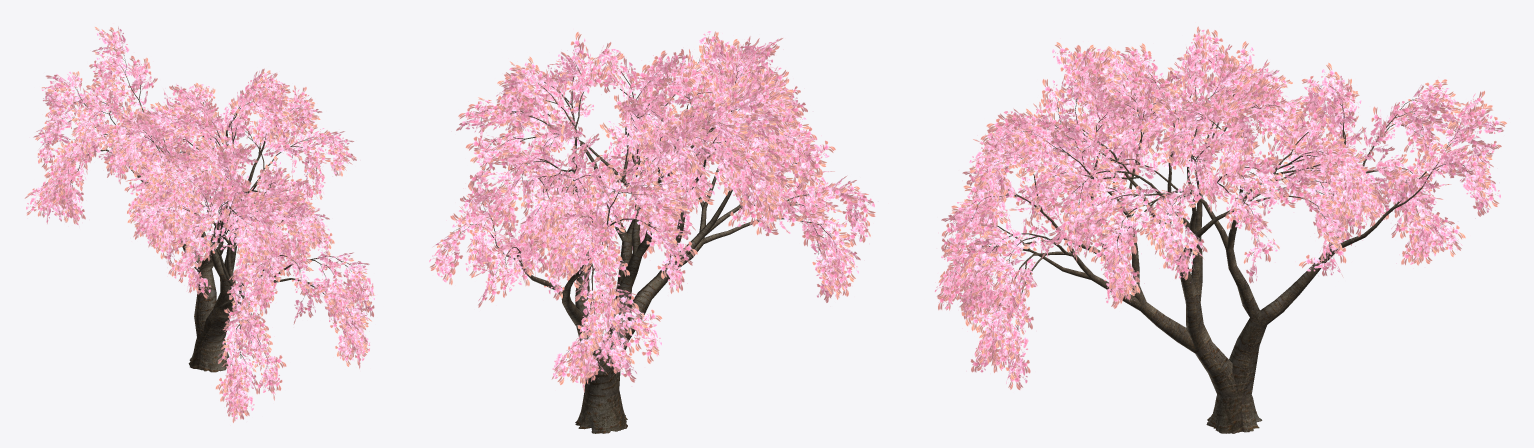
File: cerisier.glb
3 views of the same model, side by side, from view 1: azimuth 30°, elevation 25°; view 2: azimuth 150°, elevation 25°; view 3: azimuth 270°, elevation 25° (orthographic). The views are drawn at different scales.
Parts seen in each view (by area): view 1: Object_2, Object_3; view 2: Object_2, Object_3; view 3: Object_2, Object_3.
Boxes of the visible parts, box(x1,y1,x2,y2) form: Object_2: box(24, 26, 375, 422); Object_3: box(43, 46, 363, 393); Object_2: box(429, 29, 875, 392); Object_3: box(445, 46, 857, 433); Object_2: box(934, 22, 1508, 390); Object_3: box(950, 51, 1482, 433).
Size of the model in its own units: 3.2 by 3.6 by 5.17.
2 materials, 2 textured.
